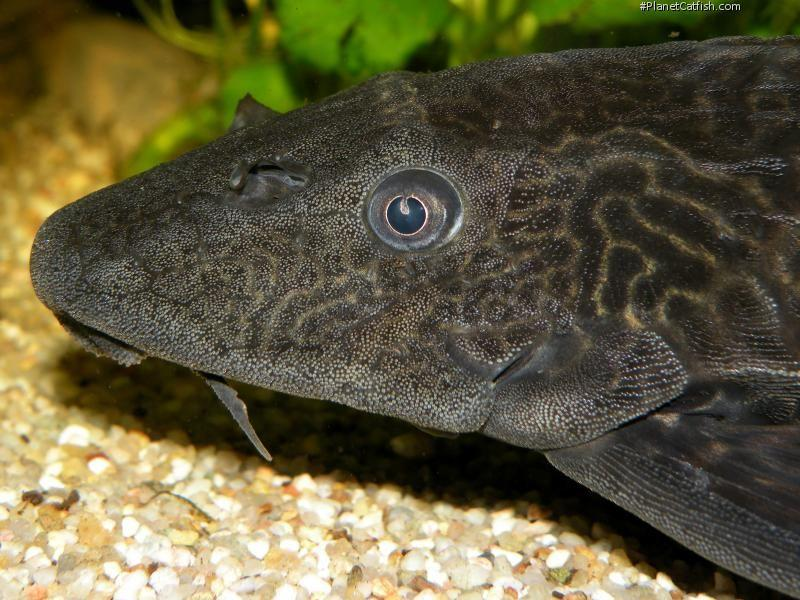Janitor Fish: (31, 25, 800, 598)
